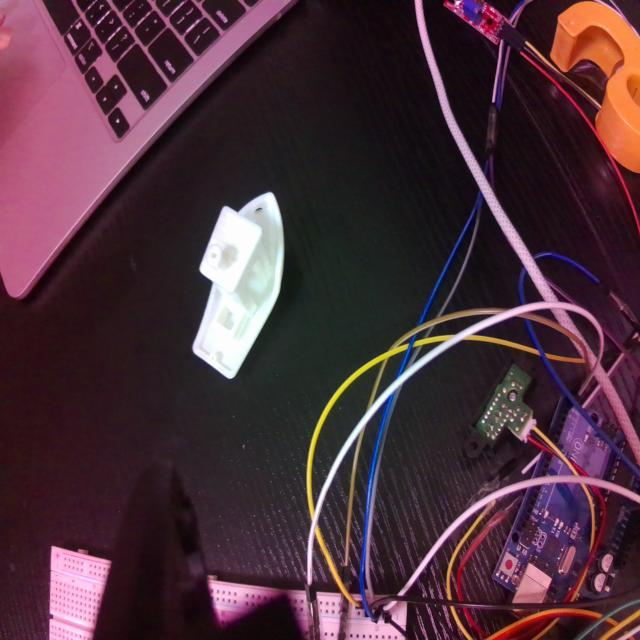ship: (191, 190, 286, 380)
